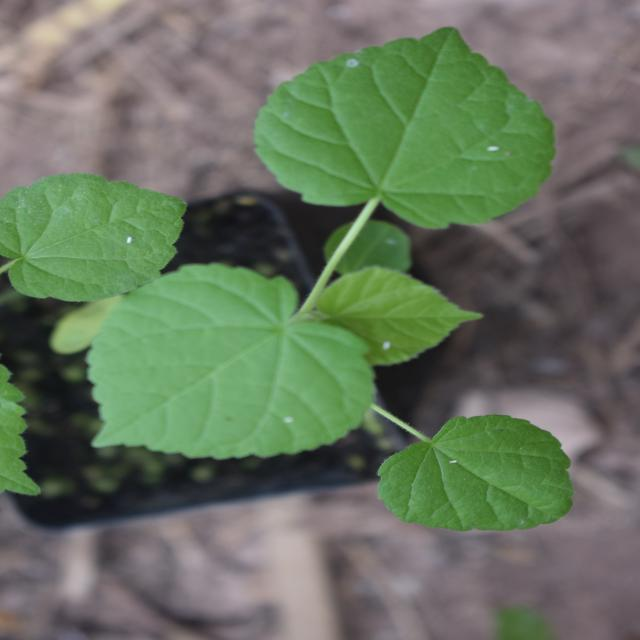abutilon theophrasti: (109, 81, 604, 562)
